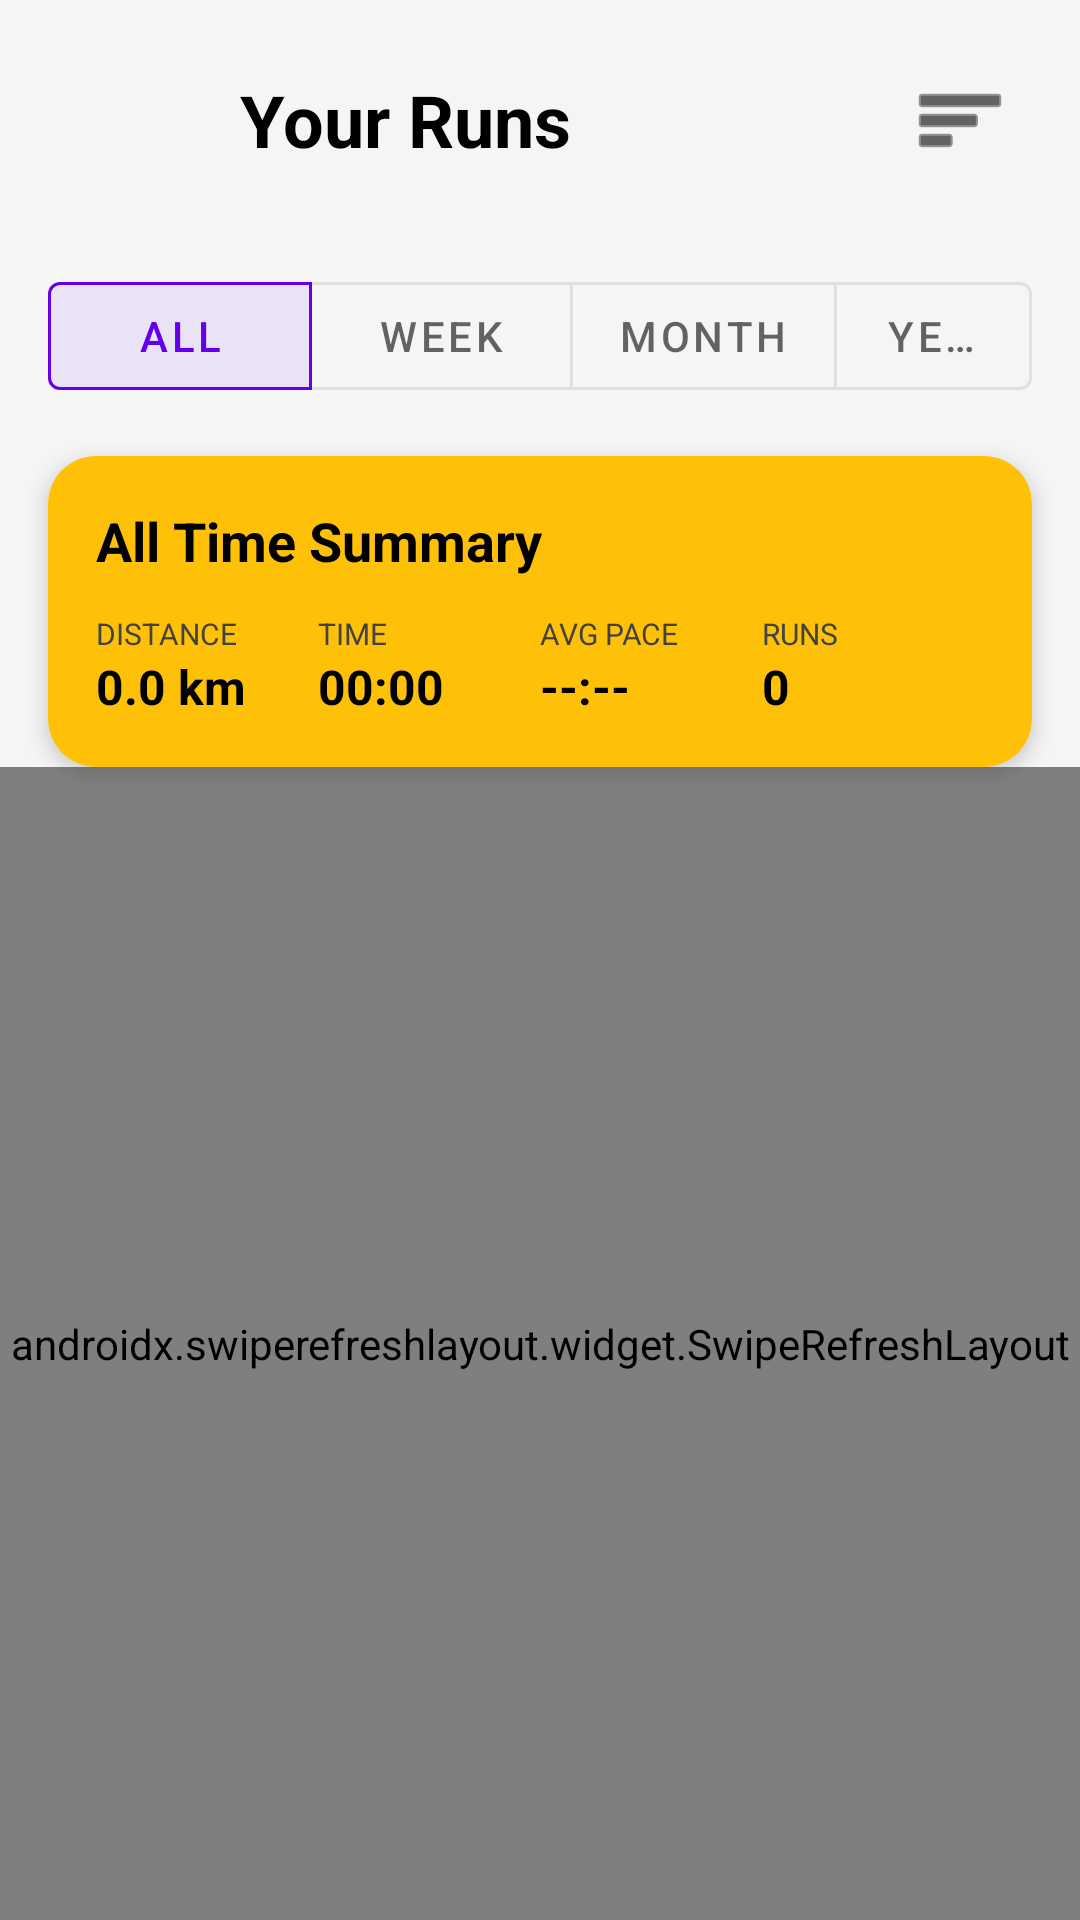

Icon bounding boxes for this 1080 x 1920 phone screenshot, format region(x1, y1, x2, y2):
sort by size: region(919, 94, 1001, 147)
